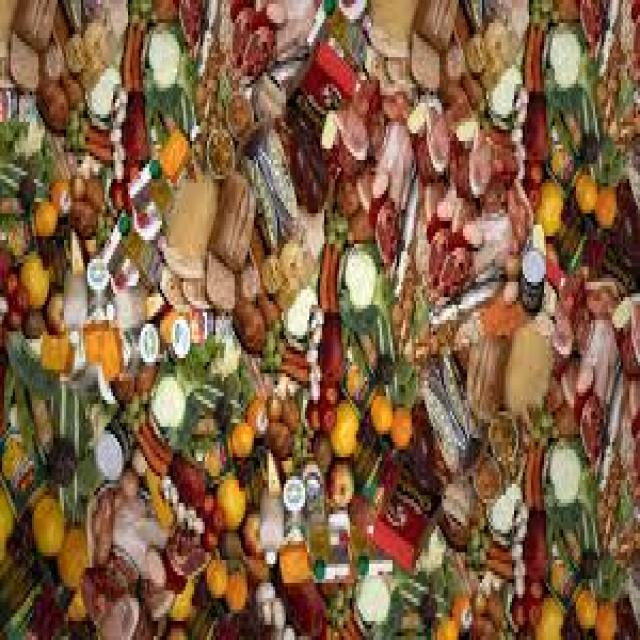Wet: (29, 494, 67, 554), (217, 468, 250, 528), (83, 325, 119, 377), (19, 254, 52, 309), (536, 172, 564, 236), (592, 183, 624, 233), (334, 402, 358, 458), (384, 404, 413, 448), (592, 598, 619, 640), (539, 596, 568, 635), (372, 388, 396, 432), (578, 165, 599, 214), (224, 572, 248, 614), (208, 557, 228, 601), (34, 199, 54, 238)
